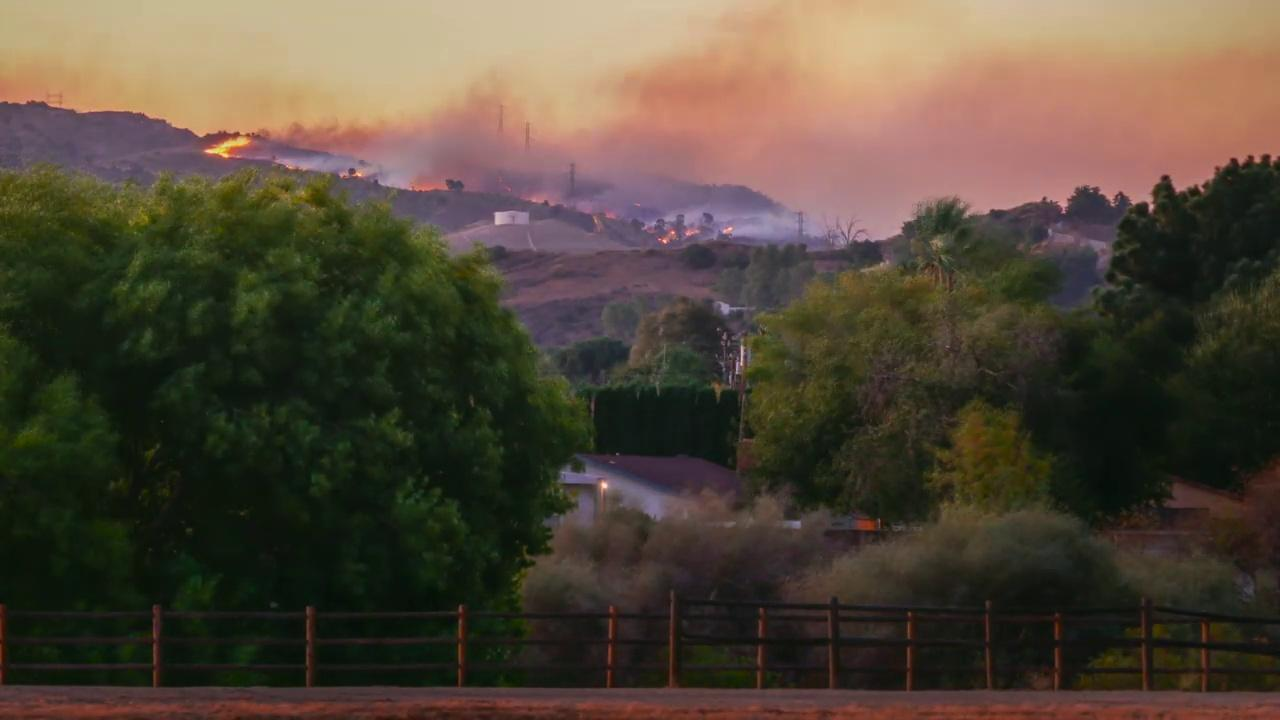fire: (202, 132, 266, 156)
smoke: (634, 86, 974, 184)
